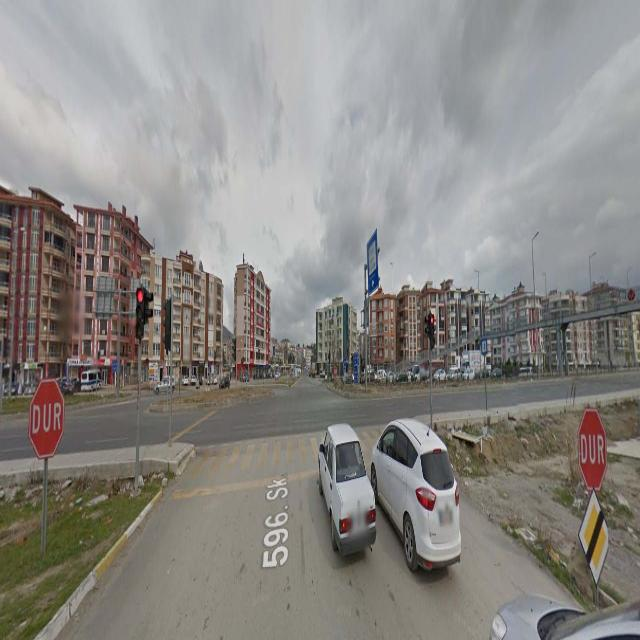dur: (29, 382, 63, 457), (579, 411, 606, 487), (136, 288, 144, 340), (430, 314, 435, 348)
